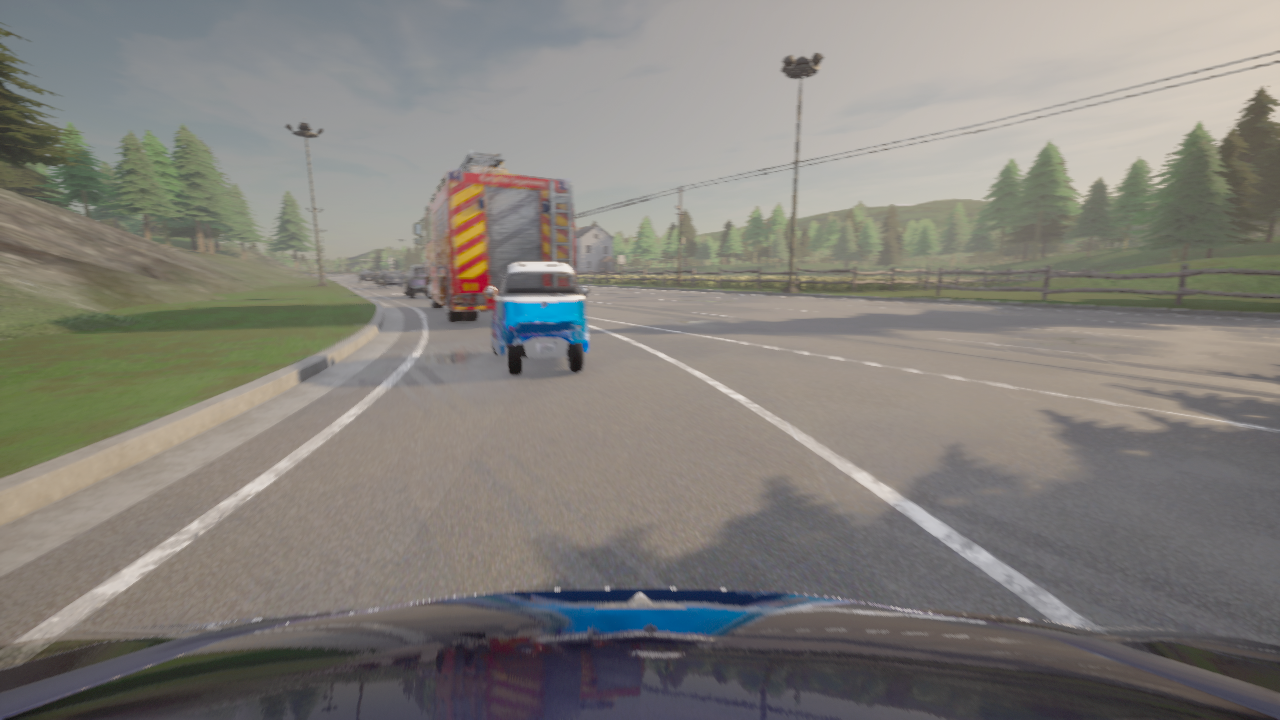cyclist: (0, 588, 1279, 719), (414, 150, 575, 322), (485, 261, 588, 375), (402, 265, 426, 298), (376, 271, 405, 288), (356, 270, 376, 283)
